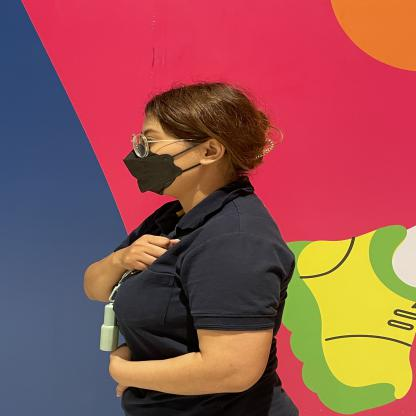Sadness: (76, 228, 185, 293)
